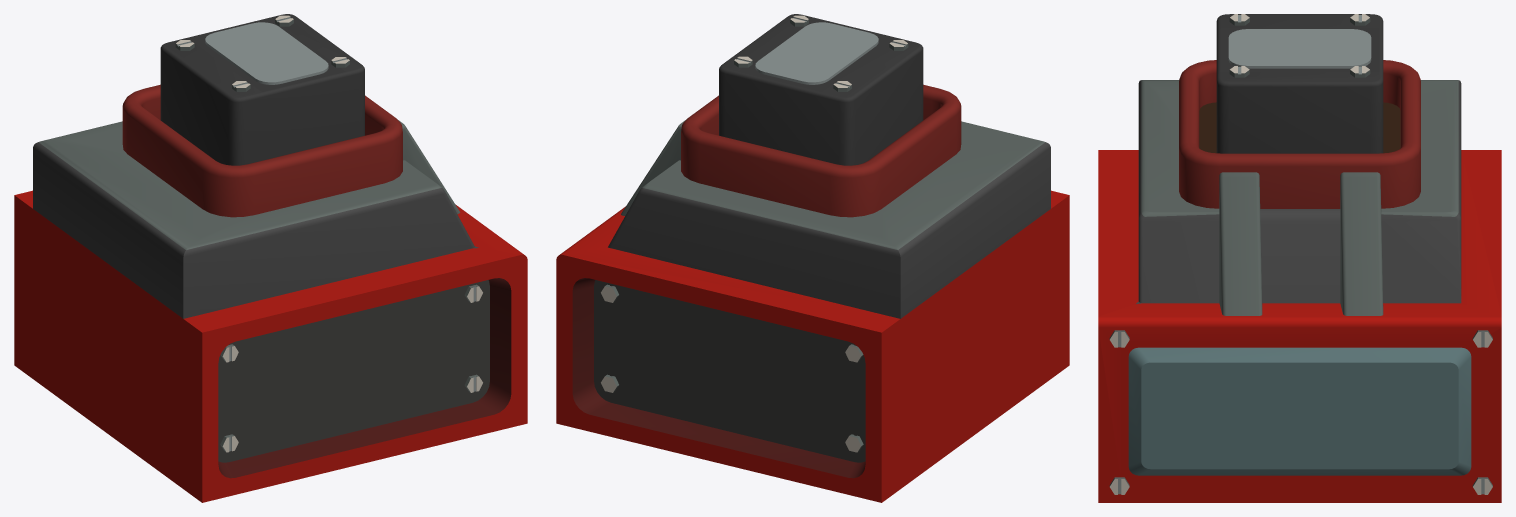
File: BusTie.fbx
The picture shows the model from 3 angles, left to right: view 1: azimuth 30°, elevation 25°; view 2: azimuth 150°, elevation 25°; view 3: azimuth 270°, elevation 25°; orthographic projection. The views are drawn at different scales.
Parts seen in each view (by area): view 1: BusTie; view 2: BusTie; view 3: BusTie.
Part boxes in pixels (x1,y1,x2,y2): BusTie: (14,14,527,502); BusTie: (556,14,1069,502); BusTie: (1098,14,1501,502).
Bounding box in the file's own units: 1.02 × 1.01 × 1.
